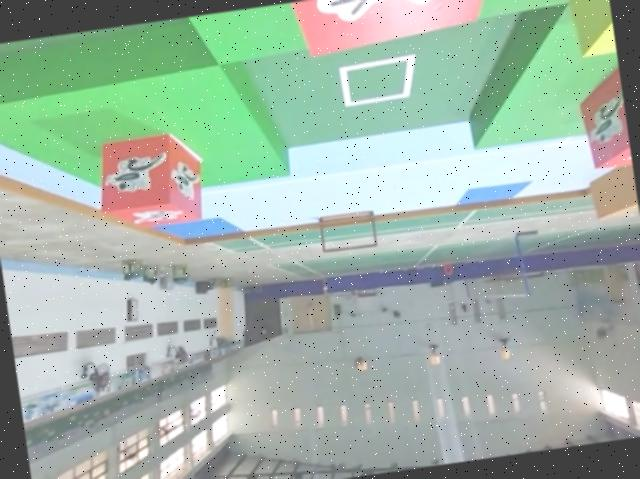R1: (90, 126, 213, 240), (573, 63, 633, 175)
